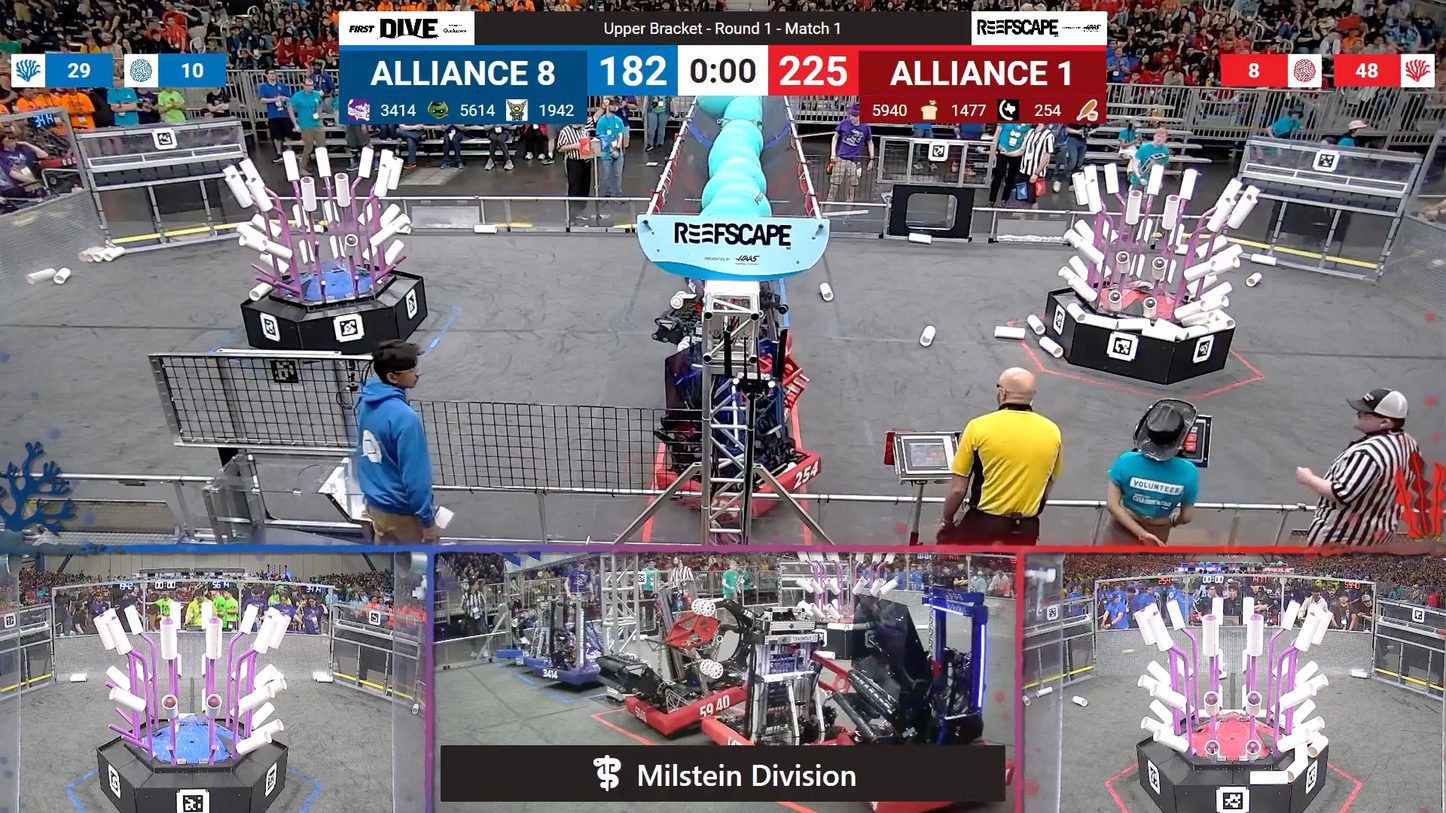bumpers: (647, 445, 823, 520), (620, 669, 768, 734), (697, 699, 846, 745), (518, 659, 621, 689), (494, 651, 538, 668)
